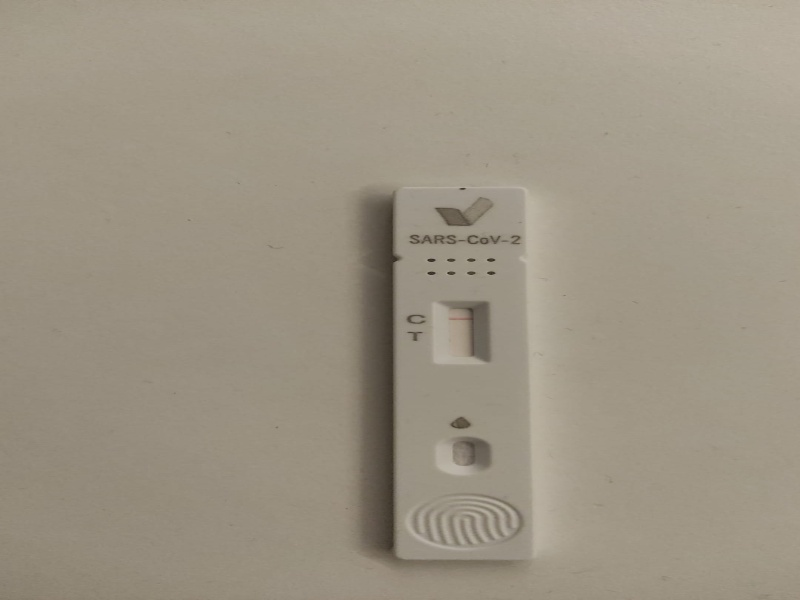negative: (404, 309, 493, 330)
